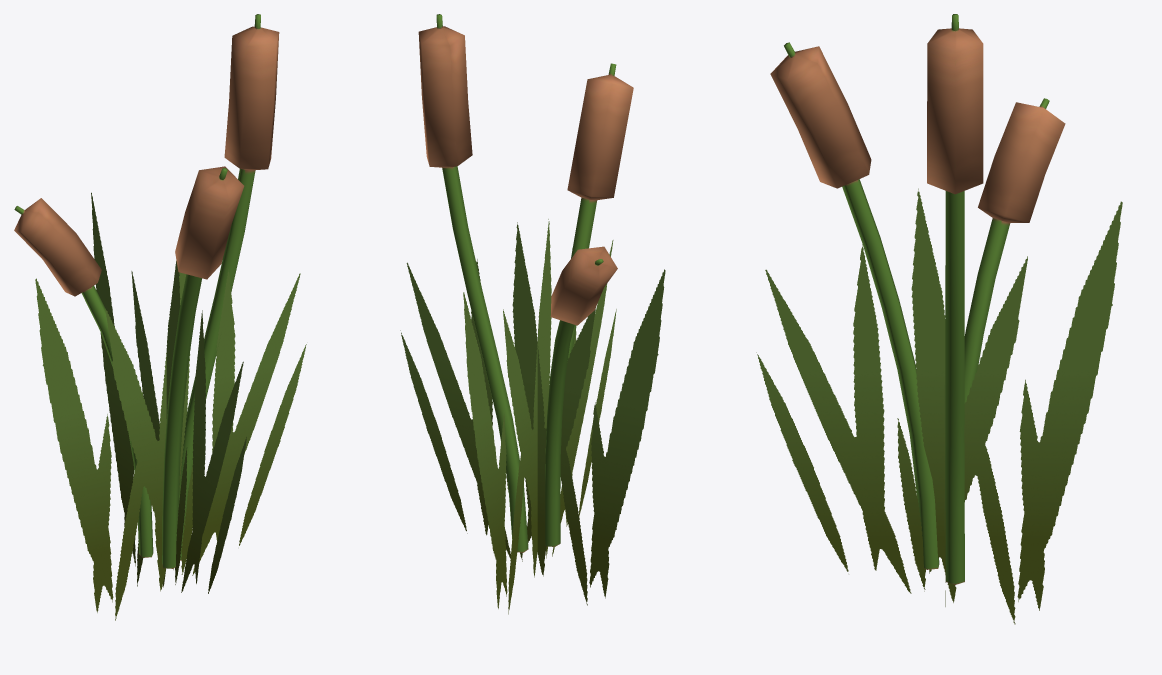
Rendered from water_reed_2.fbx.
The picture shows the model from 3 angles, left to right: view 1: azimuth 30°, elevation 25°; view 2: azimuth 150°, elevation 25°; view 3: azimuth 270°, elevation 25°; orthographic projection. The views are drawn at different scales.
Visible parts, largest first — view 1: waterreed.001; view 2: waterreed.001; view 3: waterreed.001.
Part boxes in pixels (x1,y1,x2,y2): waterreed.001: (14, 14, 306, 620); waterreed.001: (400, 14, 665, 614); waterreed.001: (756, 14, 1122, 624).
Size of the model in its own units: 240 by 425 by 240.
